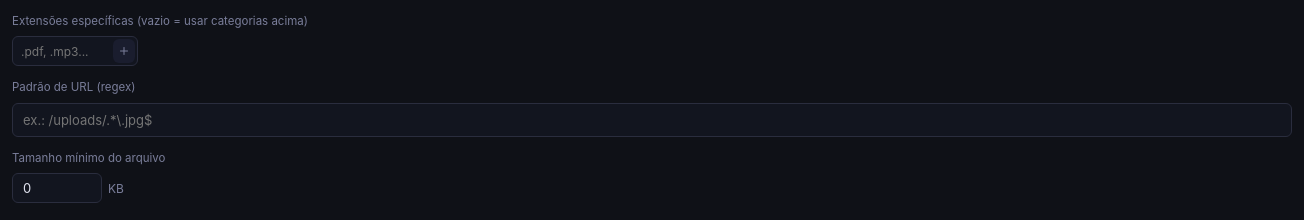
it: extension chips › normalises a bare extension by prefixing a dot
In the field labelled "Extensões específicas (vazio = usar categorias acima)": (66, 51) [21, 39, 111, 63], type "pdf"
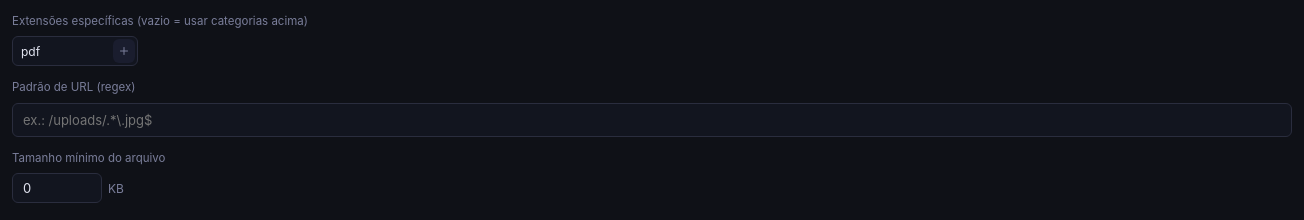
Click the button named "Adicionar extensão": click(124, 51) [113, 39, 135, 63]
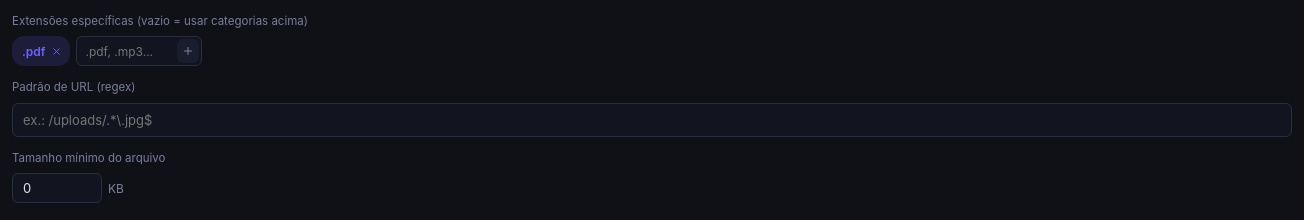
Expected: the text ".pdf" is shown, [12, 36, 70, 66]
